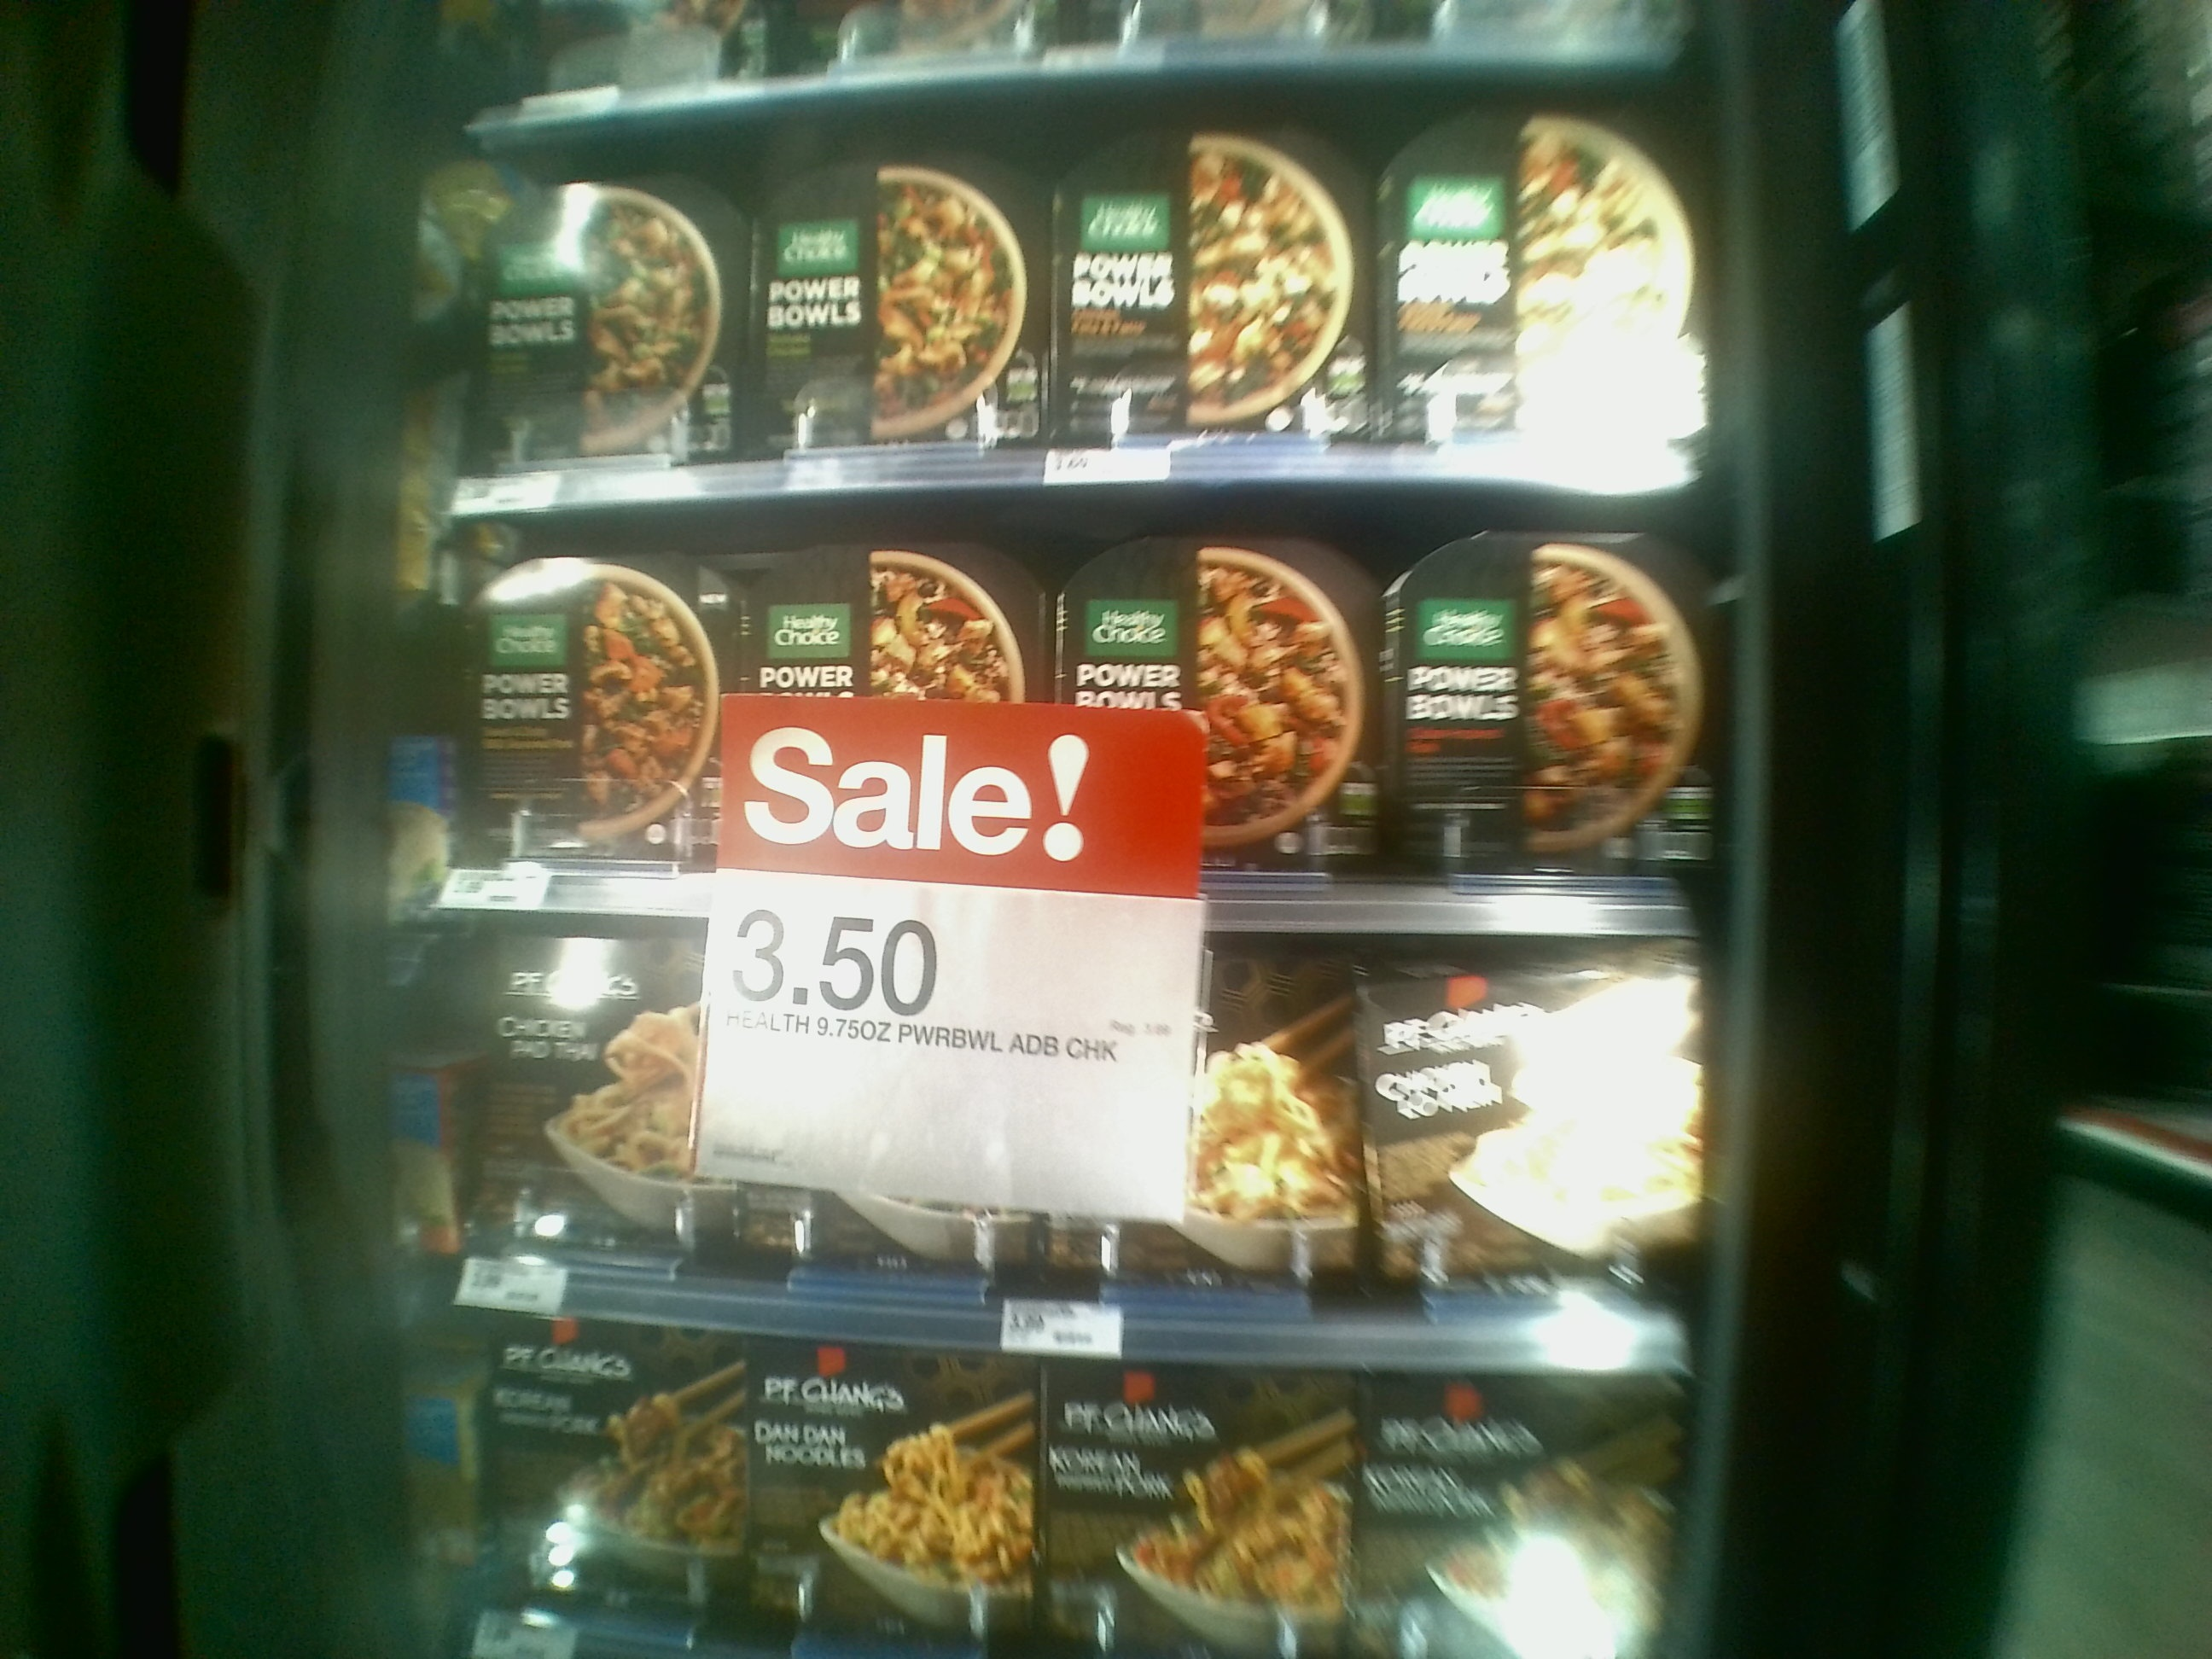shelf: (456, 476, 1696, 932)
